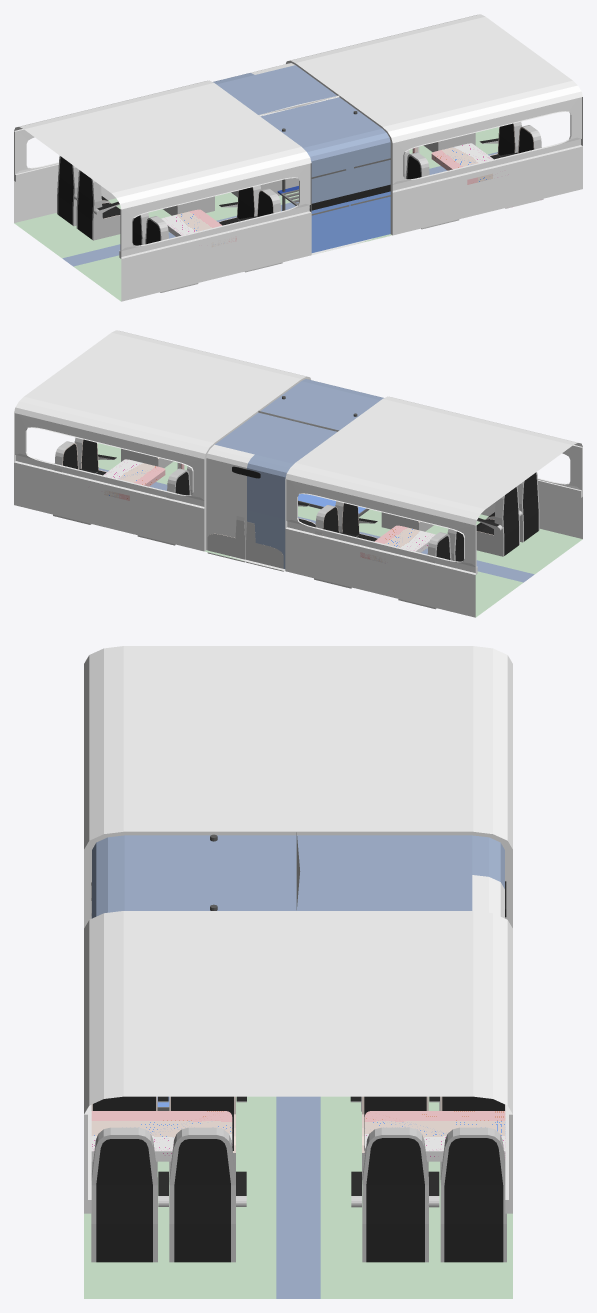
File: sm_train.fbx_Scene.fbx
3 views of the same model, one above another, from view 1: azimuth 30°, elevation 25°; view 2: azimuth 150°, elevation 25°; view 3: azimuth 270°, elevation 25° (orthographic). The views are drawn at different scales.
Visible parts, largest first — view 1: Carriage, Chair.007, Chair.003, Chair.004, Chair.001, Chair.005, Chair.006, Chair.008; view 2: Carriage, Chair.001, Chair.006, Chair.008, Chair.010, Chair.007, Chair.011, Chair.009, Chair.003, Chair.004; view 3: Carriage, Chair.004, Chair.008, Chair.005, Chair.009.
Boxes of the visible parts, x1,y1,x2,y2 form: Carriage: (14, 14, 582, 301); Chair.007: (57, 156, 120, 240); Chair.003: (218, 185, 282, 272); Chair.004: (479, 121, 543, 208); Chair.001: (133, 213, 198, 292); Chair.005: (404, 150, 459, 229); Chair.006: (163, 196, 214, 215); Chair.008: (423, 133, 475, 151); Carriage: (14, 330, 582, 617); Chair.001: (476, 472, 539, 556); Chair.006: (314, 501, 377, 588); Chair.008: (53, 437, 116, 524); Chair.010: (246, 502, 315, 571); Chair.007: (398, 528, 463, 609); Chair.011: (207, 516, 245, 562); Chair.009: (137, 466, 192, 545); Chair.003: (381, 512, 433, 531); Chair.004: (121, 448, 173, 467); Carriage: (84, 646, 512, 1298); Chair.004: (91, 1127, 246, 1262); Chair.008: (351, 1127, 506, 1262); Chair.005: (91, 1096, 246, 1176); Chair.009: (350, 1096, 505, 1179).
Size of the model in its own units: 998 by 215 by 401.
